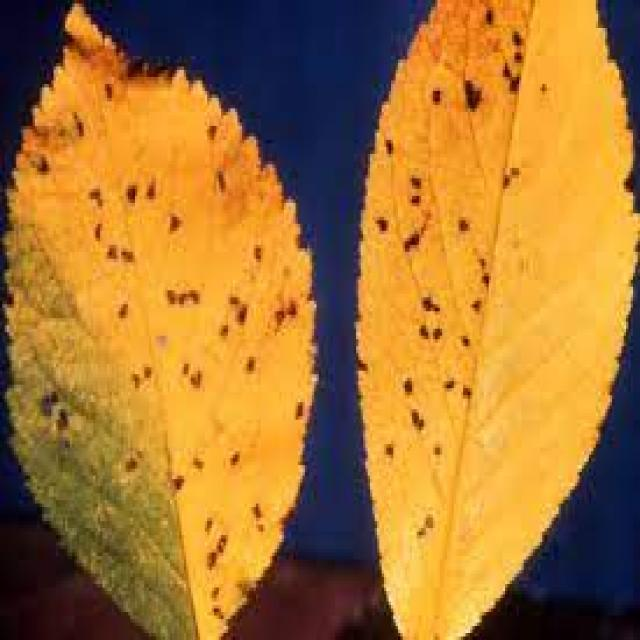black-spot: (108, 158, 292, 454), (402, 106, 542, 460)
